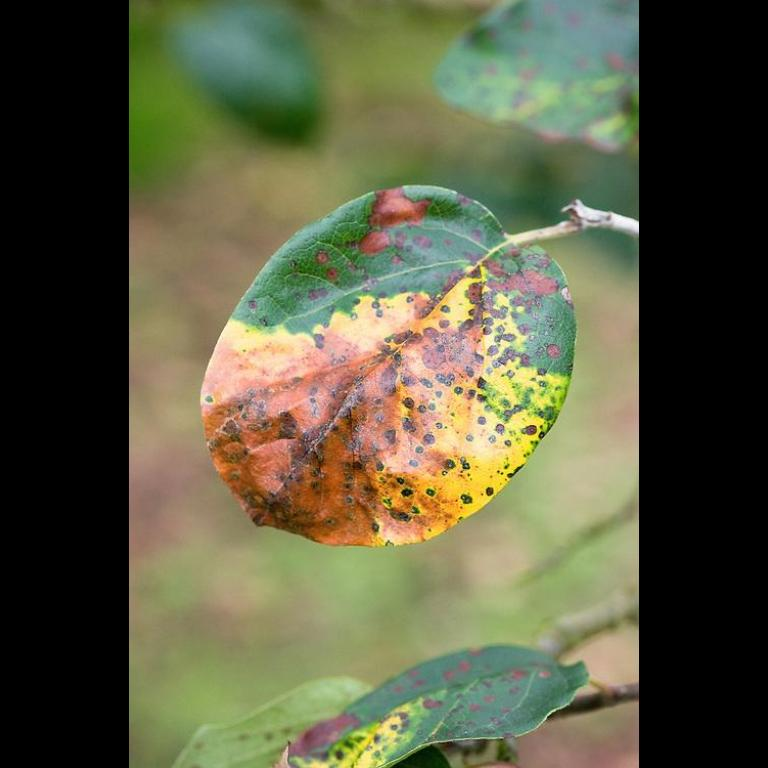blight: (196, 296, 476, 580)
